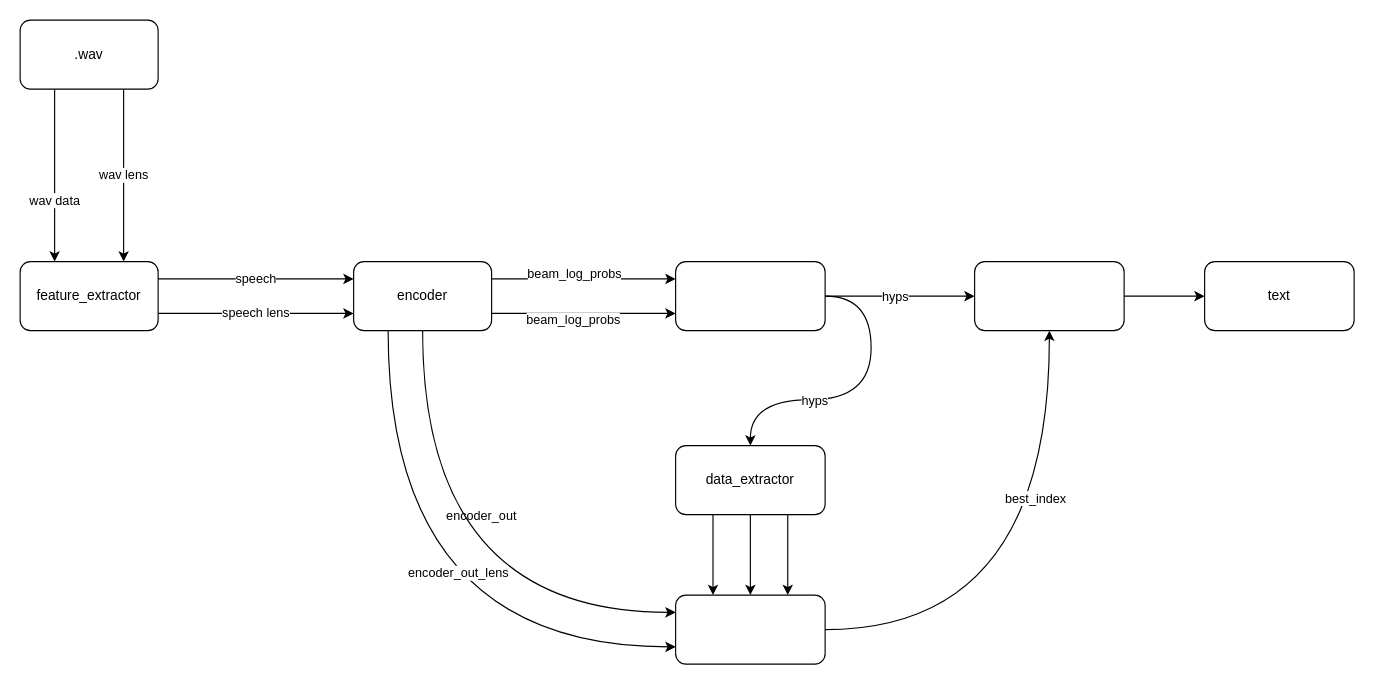
The diagram is 1374 pixels wide and 684 high, and some of its shapes have lost their labels. Each missing label, with the box of its shape:
ctc_beam_search: (674, 260, 825, 331)
decoder: (674, 594, 825, 664)
map: (973, 260, 1124, 331)
